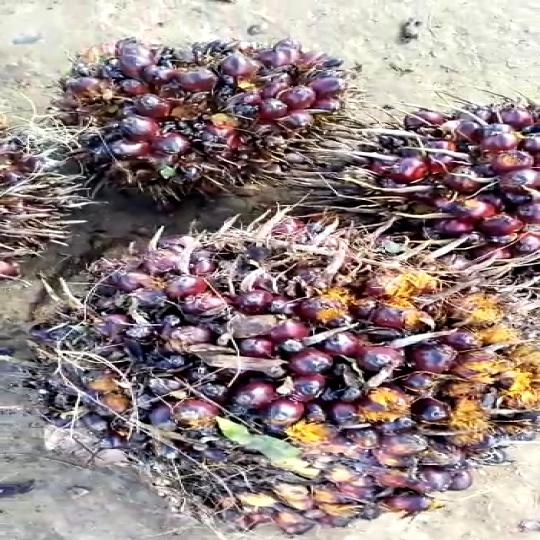masak: (1, 220, 540, 540), (50, 28, 335, 228)
